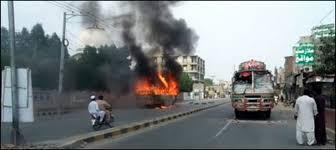fire: (140, 85, 178, 94)
smoke: (141, 0, 171, 34), (163, 36, 190, 53), (161, 63, 182, 81), (130, 48, 147, 66), (123, 20, 133, 43), (140, 67, 153, 81)
